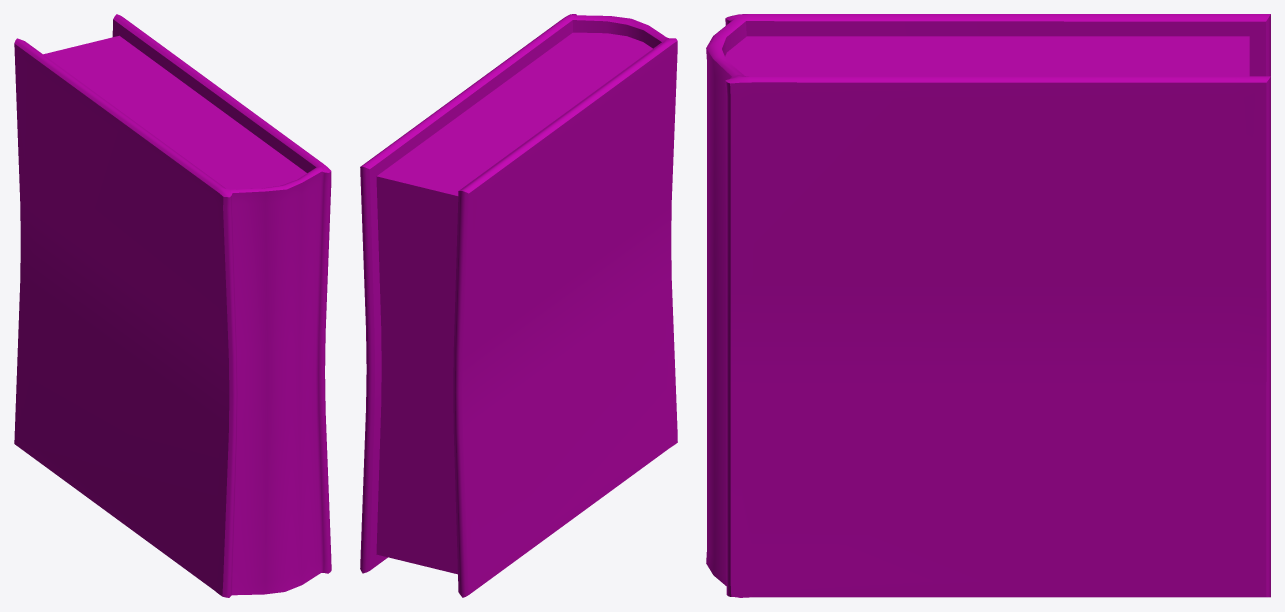
File: HD_Book_MFat.fbx
3 views of the same model, side by side, from view 1: azimuth 30°, elevation 25°; view 2: azimuth 150°, elevation 25°; view 3: azimuth 270°, elevation 25° (orthographic). The views are drawn at different scales.
Visible parts, largest first — view 1: HD_Book_MFat; view 2: HD_Book_MFat; view 3: HD_Book_MFat.
Part boxes in pixels (x1,y1,x2,y2): HD_Book_MFat: [14, 14, 331, 597]; HD_Book_MFat: [360, 14, 677, 597]; HD_Book_MFat: [706, 14, 1270, 597].
Bounding box in the file's own units: 0.1005 × 0.3583 × 0.3516.
